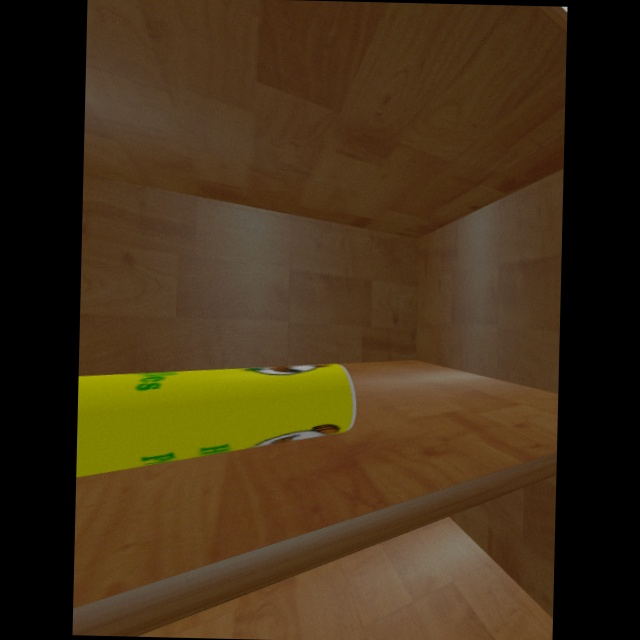chipsdose_gelb: (76, 363, 356, 478)
